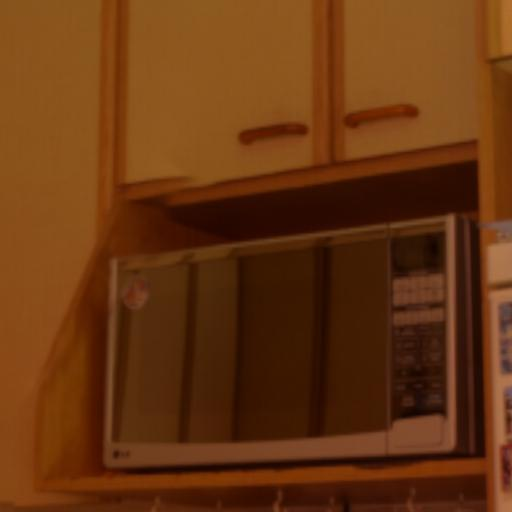nothing: (1, 3, 507, 512)
